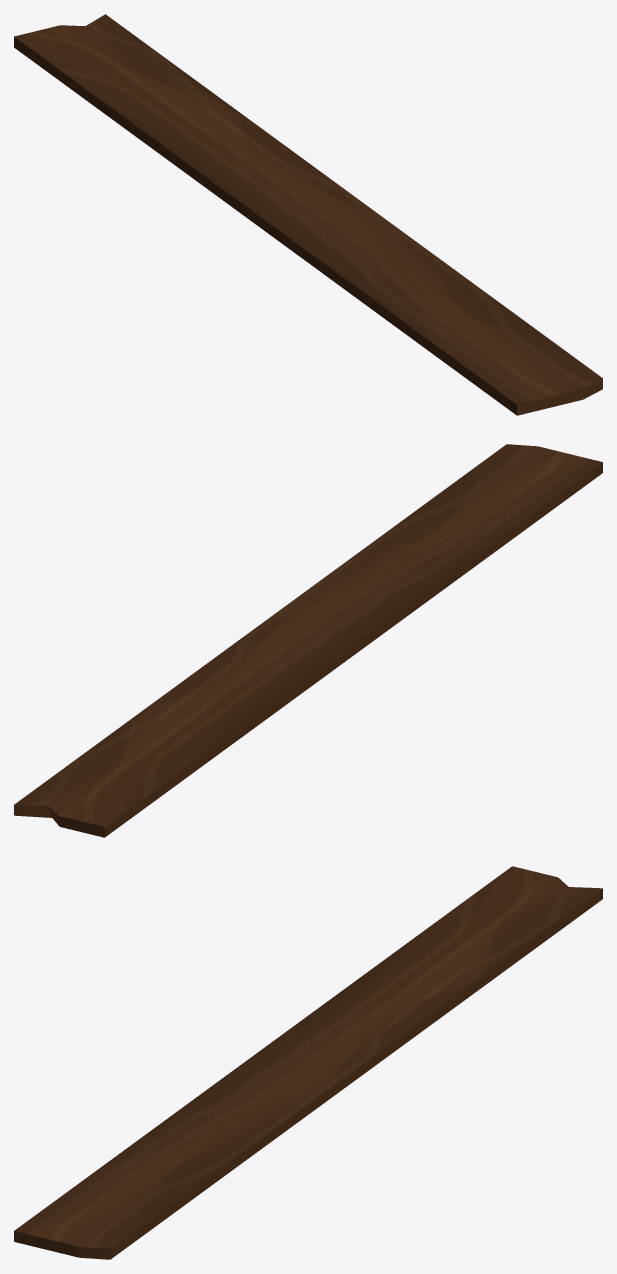
File: FloorBoard-4.fbx
3 renders of one model, top to bottom at view 1: azimuth 30°, elevation 25°; view 2: azimuth 150°, elevation 25°; view 3: azimuth 330°, elevation 25°, orthographic.
Visible parts, largest first — view 1: FloorBoard-4; view 2: FloorBoard-4; view 3: FloorBoard-4.
Boxes of the visible parts, <box> form: FloorBoard-4: <box>14,14,602,415</box>; FloorBoard-4: <box>14,444,602,837</box>; FloorBoard-4: <box>14,866,602,1259</box>.
Size of the model in its own units: 200 by 22.92 by 1904.
Materials: 1 (1 with a texture image).
